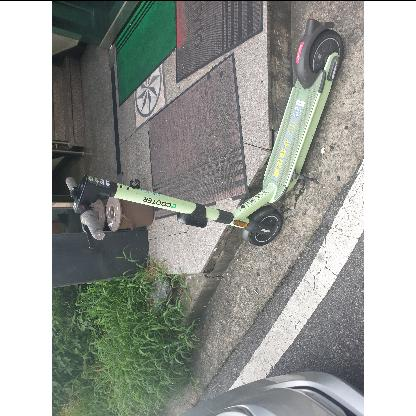bike: (65, 19, 347, 247)
car: (59, 370, 363, 416), (153, 370, 364, 416)
